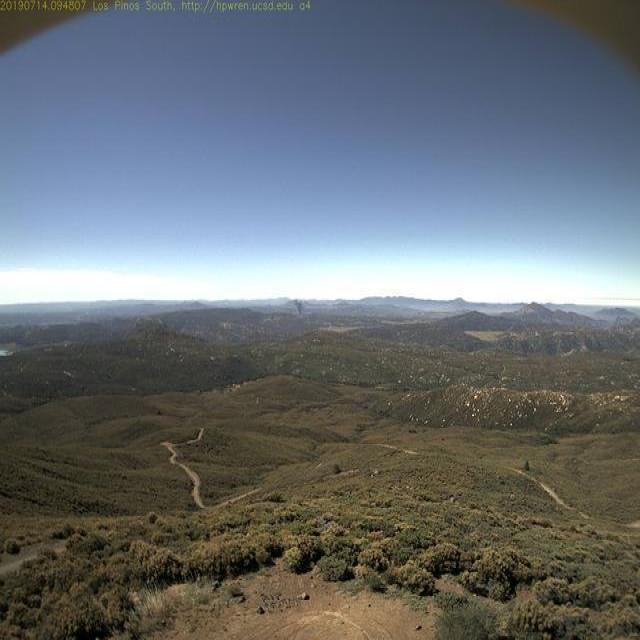Smoke: (287, 290, 309, 320)
